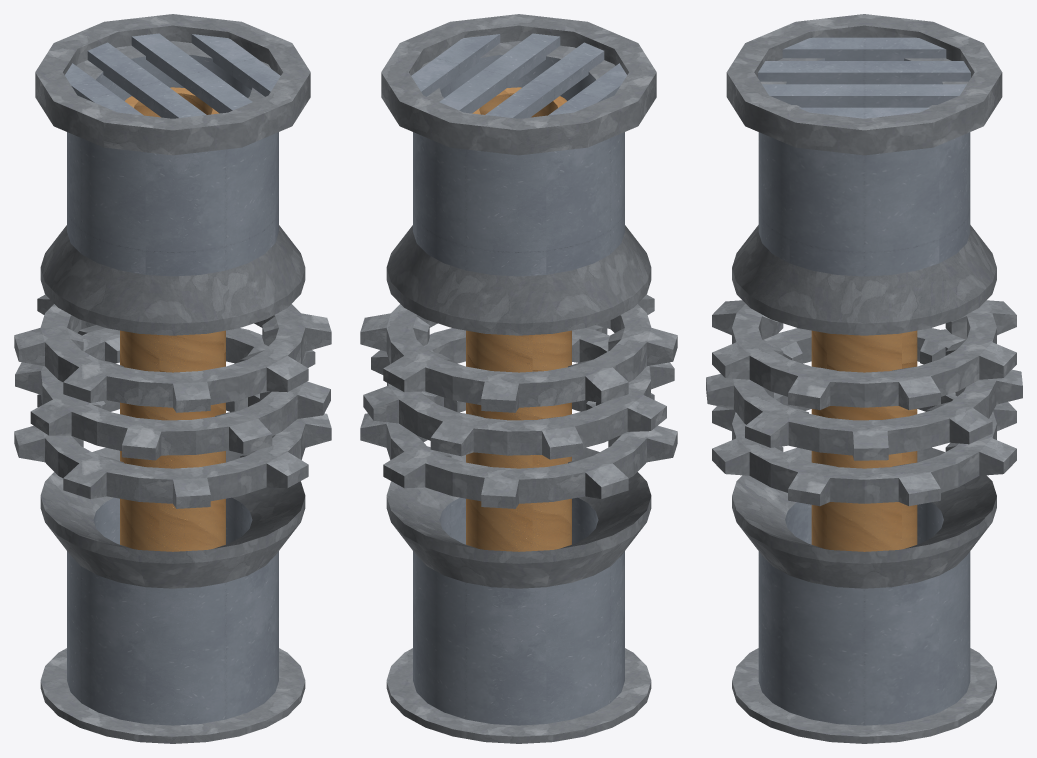
The model's file is Game_Battery.obj.
3 renders of one model, left to right at view 1: azimuth 30°, elevation 25°; view 2: azimuth 150°, elevation 25°; view 3: azimuth 270°, elevation 25°, orthographic.
Parts seen in each view (by area): view 1: pipe_largeExhaust, ring_innerOuter, pipe_large, grate_round, pipe_smallBase; view 2: pipe_largeExhaust, ring_innerOuter, pipe_large, grate_round, pipe_smallBase; view 3: pipe_largeExhaust, ring_innerOuter, pipe_large, grate_round, pipe_smallBase.
Part boxes in pixels (<box>): pipe_largeExhaust: <box>40,160,305,660</box>; ring_innerOuter: <box>14,294,331,508</box>; pipe_large: <box>40,41,305,743</box>; grate_round: <box>35,14,310,155</box>; pipe_smallBase: <box>120,87,225,551</box>; pipe_largeExhaust: <box>386,160,651,660</box>; ring_innerOuter: <box>360,294,677,508</box>; pipe_large: <box>386,41,651,743</box>; grate_round: <box>381,14,656,155</box>; pipe_smallBase: <box>466,87,571,551</box>; pipe_largeExhaust: <box>732,161,996,660</box>; ring_innerOuter: <box>706,300,1022,506</box>; pipe_large: <box>732,58,996,743</box>; grate_round: <box>726,14,1002,155</box>; pipe_smallBase: <box>811,330,917,551</box>.
Bounding box in the file's own units: 1.2 × 2.56 × 1.2.
Materials: 4 (4 with a texture image).
